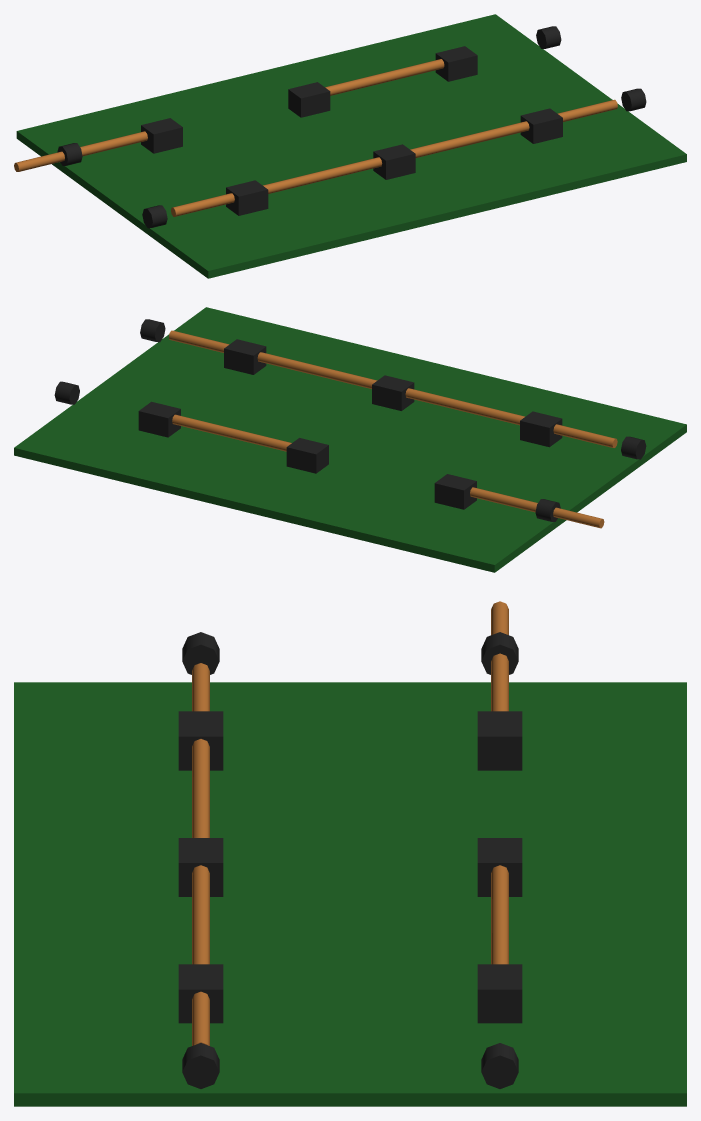
The picture shows the model from 3 angles, top to bottom: view 1: azimuth 30°, elevation 25°; view 2: azimuth 150°, elevation 25°; view 3: azimuth 270°, elevation 25°; orthographic projection. The views are drawn at different scales.
Visible parts, largest first — view 1: B10; view 2: B10; view 3: B10.
Part boxes in pixels (<box>): B10: <box>14,14,686,278</box>; B10: <box>14,307,686,572</box>; B10: <box>14,601,686,1106</box>.
Bounding box in the file's own units: 0.1465 × 0.0085 × 0.09.
